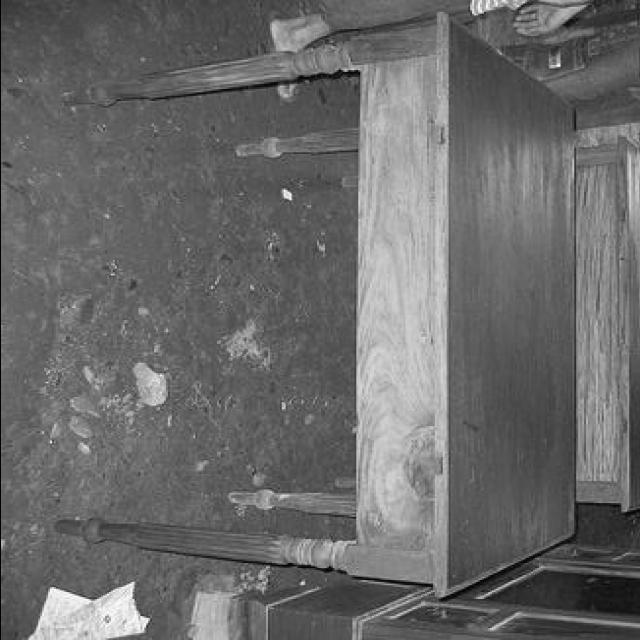table: (59, 13, 568, 591)
